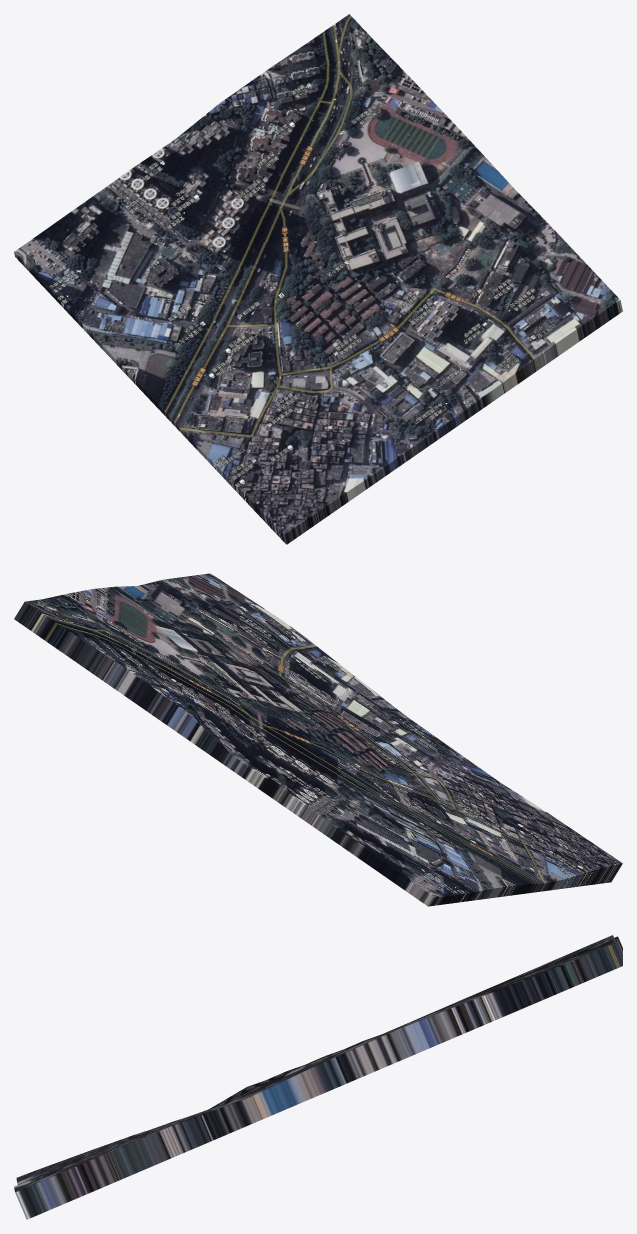
The picture shows the model from 3 angles, top to bottom: view 1: azimuth 30°, elevation 25°; view 2: azimuth 150°, elevation 25°; view 3: azimuth 270°, elevation 25°; orthographic projection. The views are drawn at different scales.
Visible parts, largest first — view 1: 0_19_14; view 2: 0_19_14; view 3: 0_19_14.
Boxes of the visible parts, bbox=[...] form: 0_19_14: bbox=[14, 14, 622, 544]; 0_19_14: bbox=[14, 573, 622, 906]; 0_19_14: bbox=[14, 935, 622, 1219].
Bounding box in the file's own units: 596 × 446 × 554.
1 material, 1 textured.
